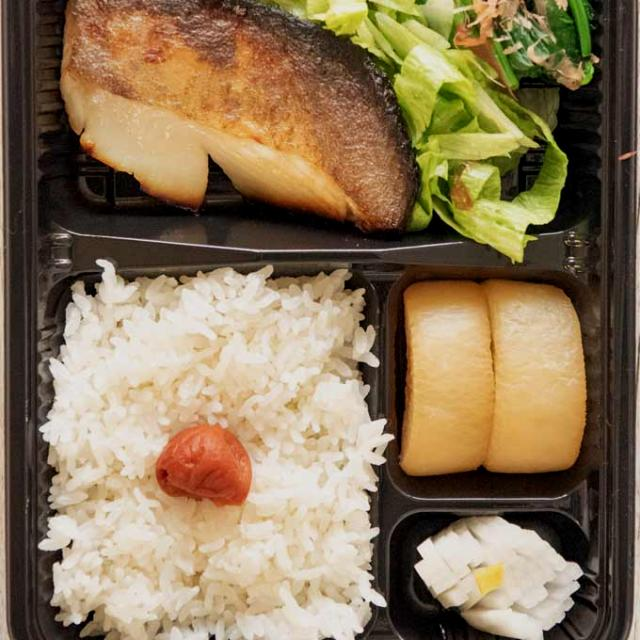cabbage: (412, 15, 556, 218)
rice: (49, 273, 360, 633)
